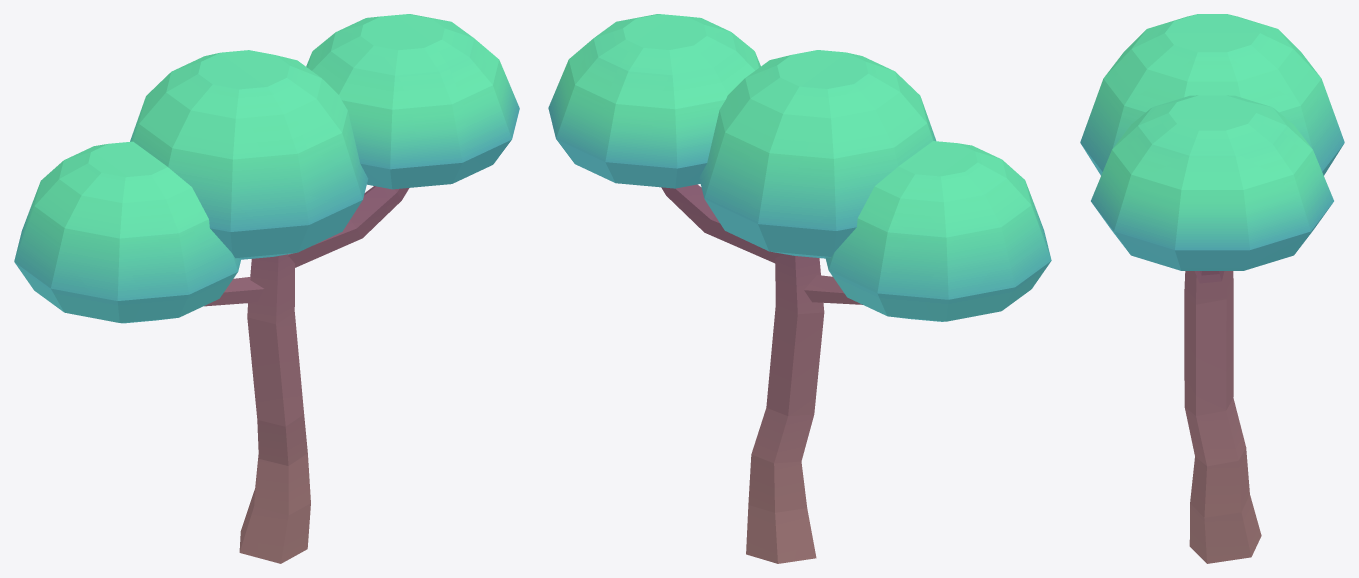
Rendered from small_tree_g.glb.
3 views of the same model, side by side, from view 1: azimuth 30°, elevation 25°; view 2: azimuth 150°, elevation 25°; view 3: azimuth 270°, elevation 25° (orthographic). The views are drawn at different scales.
Visible parts, largest first — view 1: small tree; view 2: small tree; view 3: small tree.
Boxes of the visible parts, x1,y1,x2,y2 form: small tree: (14,14,519,563); small tree: (548,14,1051,563); small tree: (1080,14,1344,563).
Size of the model in its own units: 2.91 by 2.92 by 1.4.
Materials: 1 (1 with a texture image).
